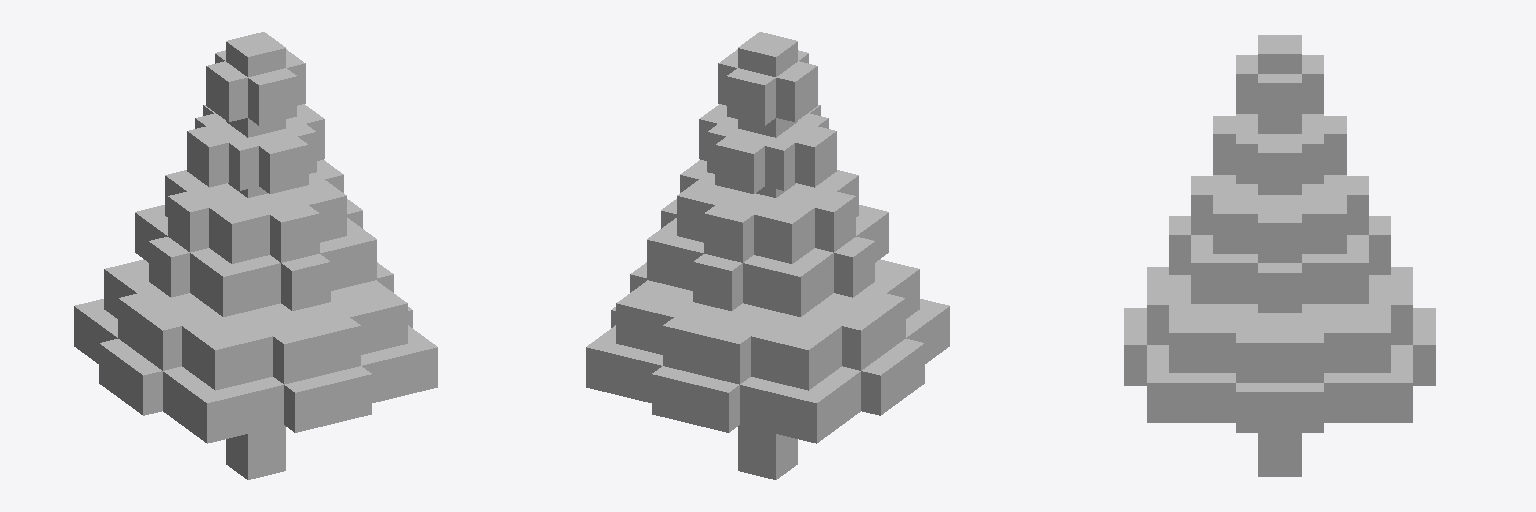
The model's file is Pinheiro 1.obj.
3 views of the same model, side by side, from view 1: azimuth 30°, elevation 25°; view 2: azimuth 150°, elevation 25°; view 3: azimuth 270°, elevation 25° (orthographic).
Visible parts, largest first — view 1: object 1; view 2: object 1; view 3: object 1.
Boxes of the visible parts, box(x1,y1,x2,y2) form: object 1: box(74, 32, 437, 479); object 1: box(586, 32, 949, 479); object 1: box(1124, 35, 1435, 476).
Bounding box in the file's own units: 1.4 × 2.1 × 1.4.